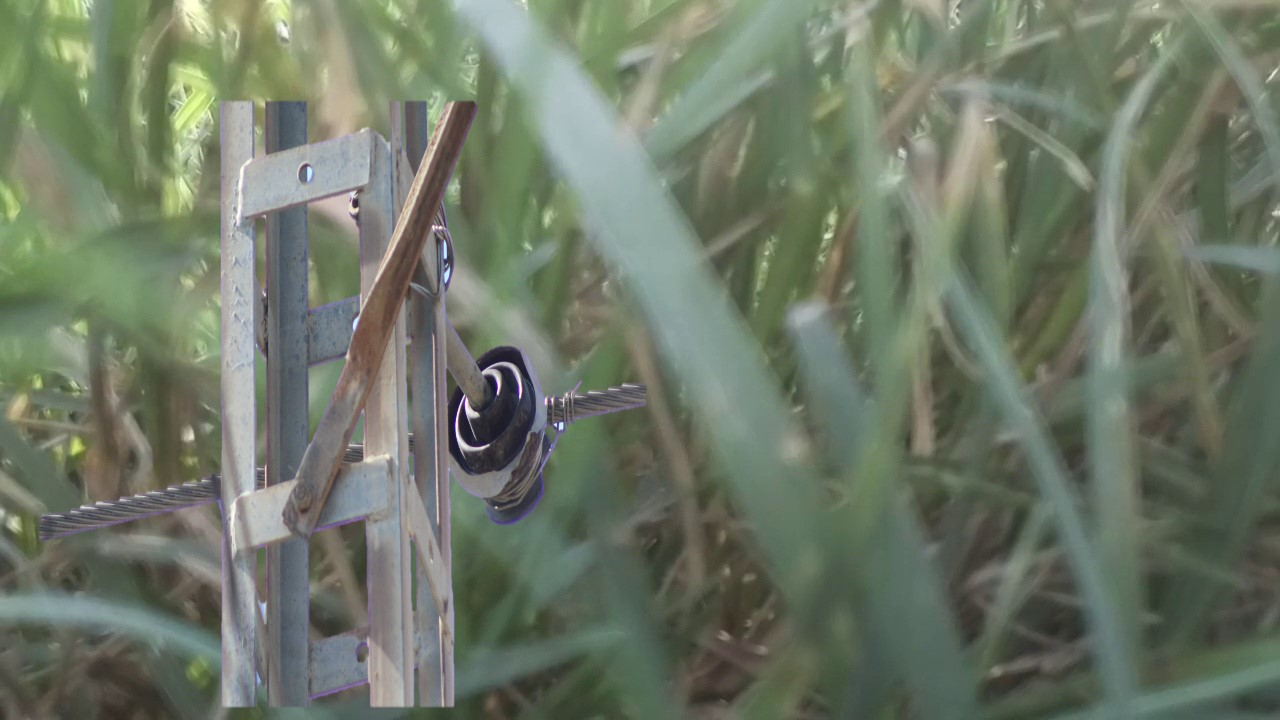defect_pin: (445, 343, 561, 523)
